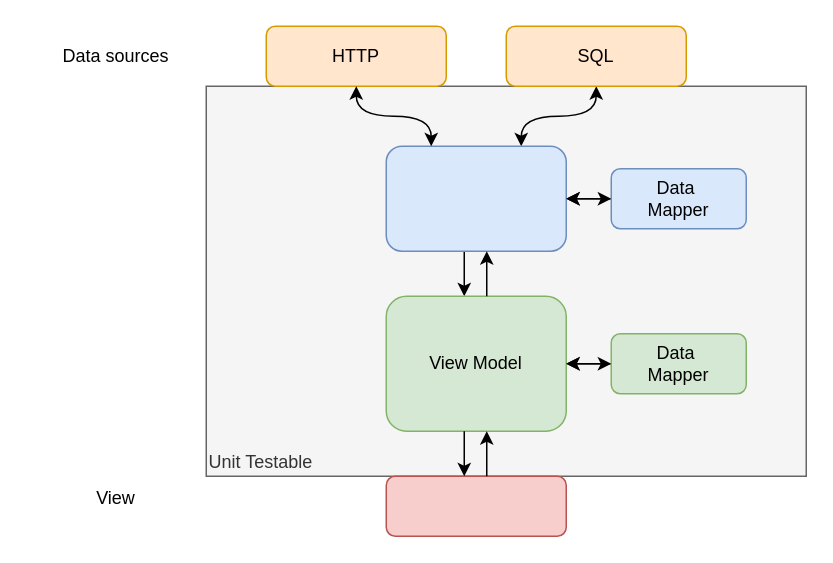
Some shapes in this 833 by 563 pixel diagram are drawn without their labels. Here are the shapes that lost their labels. From the top down, the centre of each, then its label:
At pixel 475 198: "Repository".
At pixel 475 505: "UI".
